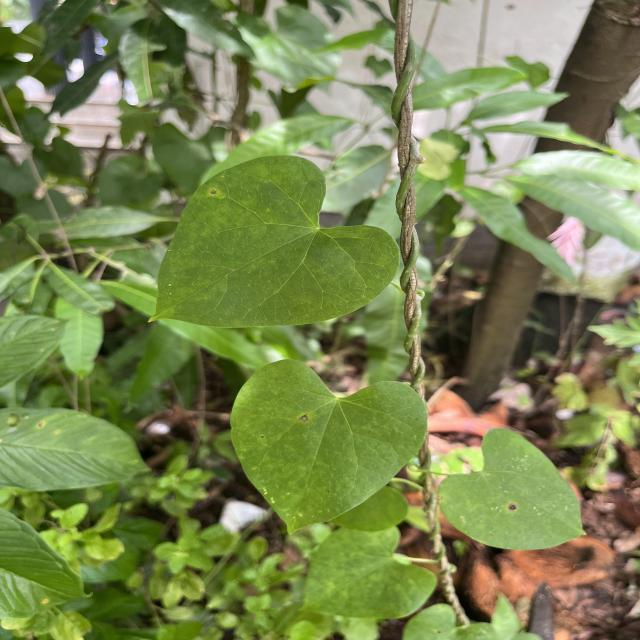Tinospora cordifolia: (144, 152, 403, 331), (227, 356, 432, 540), (434, 424, 590, 552)
